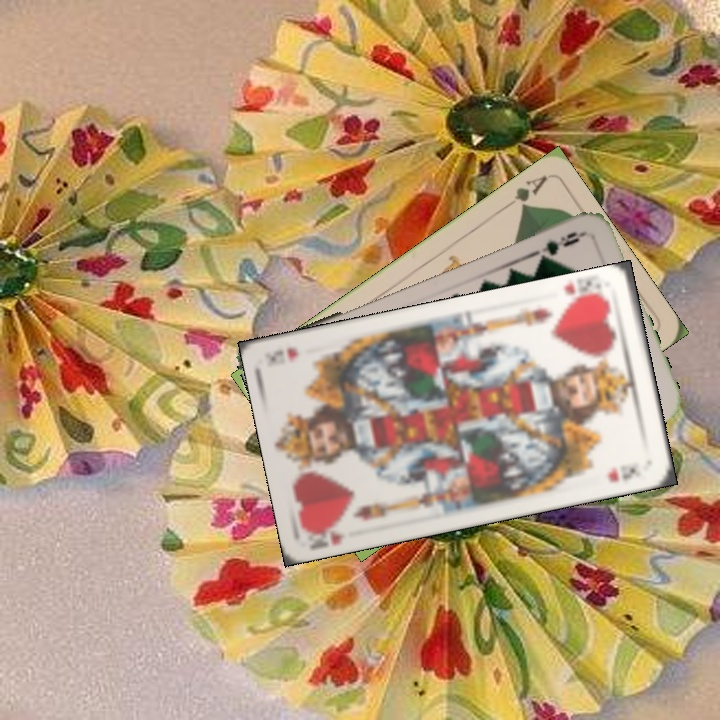G9: (531, 227, 588, 264)
GA: (498, 171, 550, 213)
HK: (561, 280, 607, 308), (306, 527, 348, 552)
